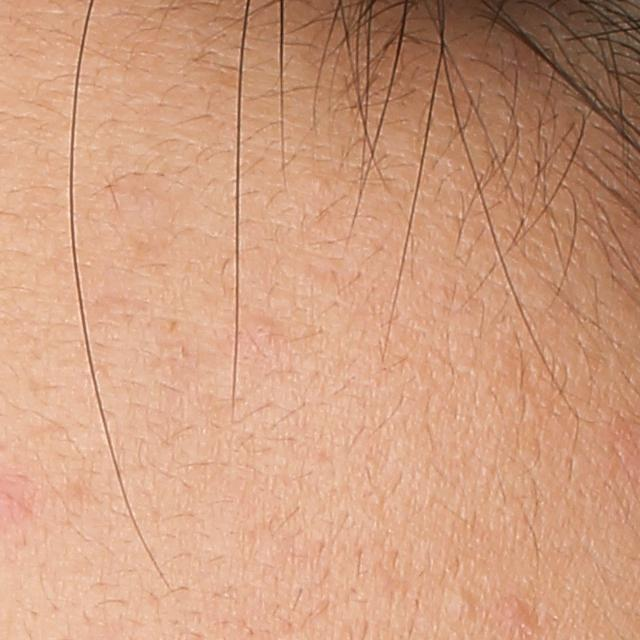comedo: (448, 587, 476, 618)
